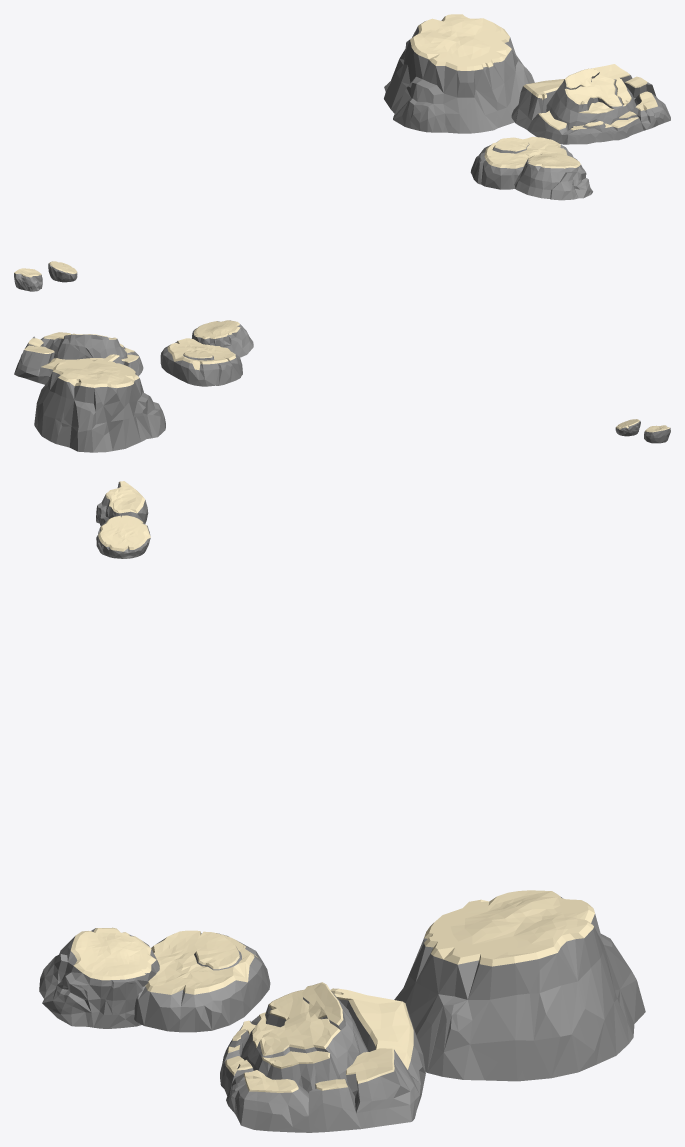
File: New Mountain Props.fbx
The picture shows the model from 3 angles, top to bottom: view 1: azimuth 30°, elevation 25°; view 2: azimuth 150°, elevation 25°; view 3: azimuth 270°, elevation 25°; orthographic projection. The views are drawn at different scales.
Visible parts, largest first — view 1: PP_Stone_Plateau_Moss_Grown_01_2_PP_Standard_Material_0, PP_Stone_Plateau_Moss_Grown_09.001_PP_Standard_Material_0, PP_Stone_Plateau_Moss_Grown_05_2_PP_Standard_Material_0, PP_Stone_Plateau_Moss_Grown_02_2_PP_Standard_Material_0, PP_Stone_Plateau_Moss_Grown_06_PP_Standard_Material_0, PP_Stone_Plateau_Moss_Grown_07_PP_Standard_Material_0; view 2: PP_Stone_Plateau_Moss_Grown_01_2_PP_Standard_Material_0, PP_Stone_Plateau_Moss_Grown_09.001_PP_Standard_Material_0, PP_Stone_Plateau_Moss_Grown_05_2_PP_Standard_Material_0, PP_Stone_Plateau_Moss_Grown_02_2_PP_Standard_Material_0, PP_Stone_Plateau_Moss_Grown_06_PP_Standard_Material_0, PP_Stone_Plateau_Moss_Grown_07_PP_Standard_Material_0; view 3: PP_Stone_Plateau_Moss_Grown_01_2_PP_Standard_Material_0, PP_Stone_Plateau_Moss_Grown_09.001_PP_Standard_Material_0, PP_Stone_Plateau_Moss_Grown_05_2_PP_Standard_Material_0, PP_Stone_Plateau_Moss_Grown_02_2_PP_Standard_Material_0, PP_Stone_Plateau_Moss_Grown_07_PP_Standard_Material_0, PP_Stone_Plateau_Moss_Grown_06_PP_Standard_Material_0.
Boxes of the visible parts, left/top/right/bottom form: PP_Stone_Plateau_Moss_Grown_01_2_PP_Standard_Material_0: left=384, top=14, right=534, bottom=133; PP_Stone_Plateau_Moss_Grown_09.001_PP_Standard_Material_0: left=511, top=64, right=670, bottom=144; PP_Stone_Plateau_Moss_Grown_05_2_PP_Standard_Material_0: left=470, top=136, right=573, bottom=189; PP_Stone_Plateau_Moss_Grown_02_2_PP_Standard_Material_0: left=514, top=153, right=592, bottom=200; PP_Stone_Plateau_Moss_Grown_06_PP_Standard_Material_0: left=14, top=268, right=42, bottom=291; PP_Stone_Plateau_Moss_Grown_07_PP_Standard_Material_0: left=48, top=261, right=77, bottom=282; PP_Stone_Plateau_Moss_Grown_01_2_PP_Standard_Material_0: left=34, top=359, right=165, bottom=452; PP_Stone_Plateau_Moss_Grown_09.001_PP_Standard_Material_0: left=14, top=332, right=143, bottom=384; PP_Stone_Plateau_Moss_Grown_05_2_PP_Standard_Material_0: left=160, top=338, right=242, bottom=386; PP_Stone_Plateau_Moss_Grown_02_2_PP_Standard_Material_0: left=192, top=320, right=253, bottom=357; PP_Stone_Plateau_Moss_Grown_06_PP_Standard_Material_0: left=644, top=425, right=670, bottom=443; PP_Stone_Plateau_Moss_Grown_07_PP_Standard_Material_0: left=615, top=419, right=640, bottom=436; PP_Stone_Plateau_Moss_Grown_01_2_PP_Standard_Material_0: left=394, top=890, right=645, bottom=1081; PP_Stone_Plateau_Moss_Grown_09.001_PP_Standard_Material_0: left=220, top=982, right=425, bottom=1132; PP_Stone_Plateau_Moss_Grown_05_2_PP_Standard_Material_0: left=134, top=930, right=270, bottom=1032; PP_Stone_Plateau_Moss_Grown_02_2_PP_Standard_Material_0: left=39, top=927, right=159, bottom=1028; PP_Stone_Plateau_Moss_Grown_07_PP_Standard_Material_0: left=96, top=515, right=150, bottom=558; PP_Stone_Plateau_Moss_Grown_06_PP_Standard_Material_0: left=96, top=481, right=148, bottom=525.
Size of the model in its own units: 45212 by 4146 by 19950.
1 material, 1 textured.
